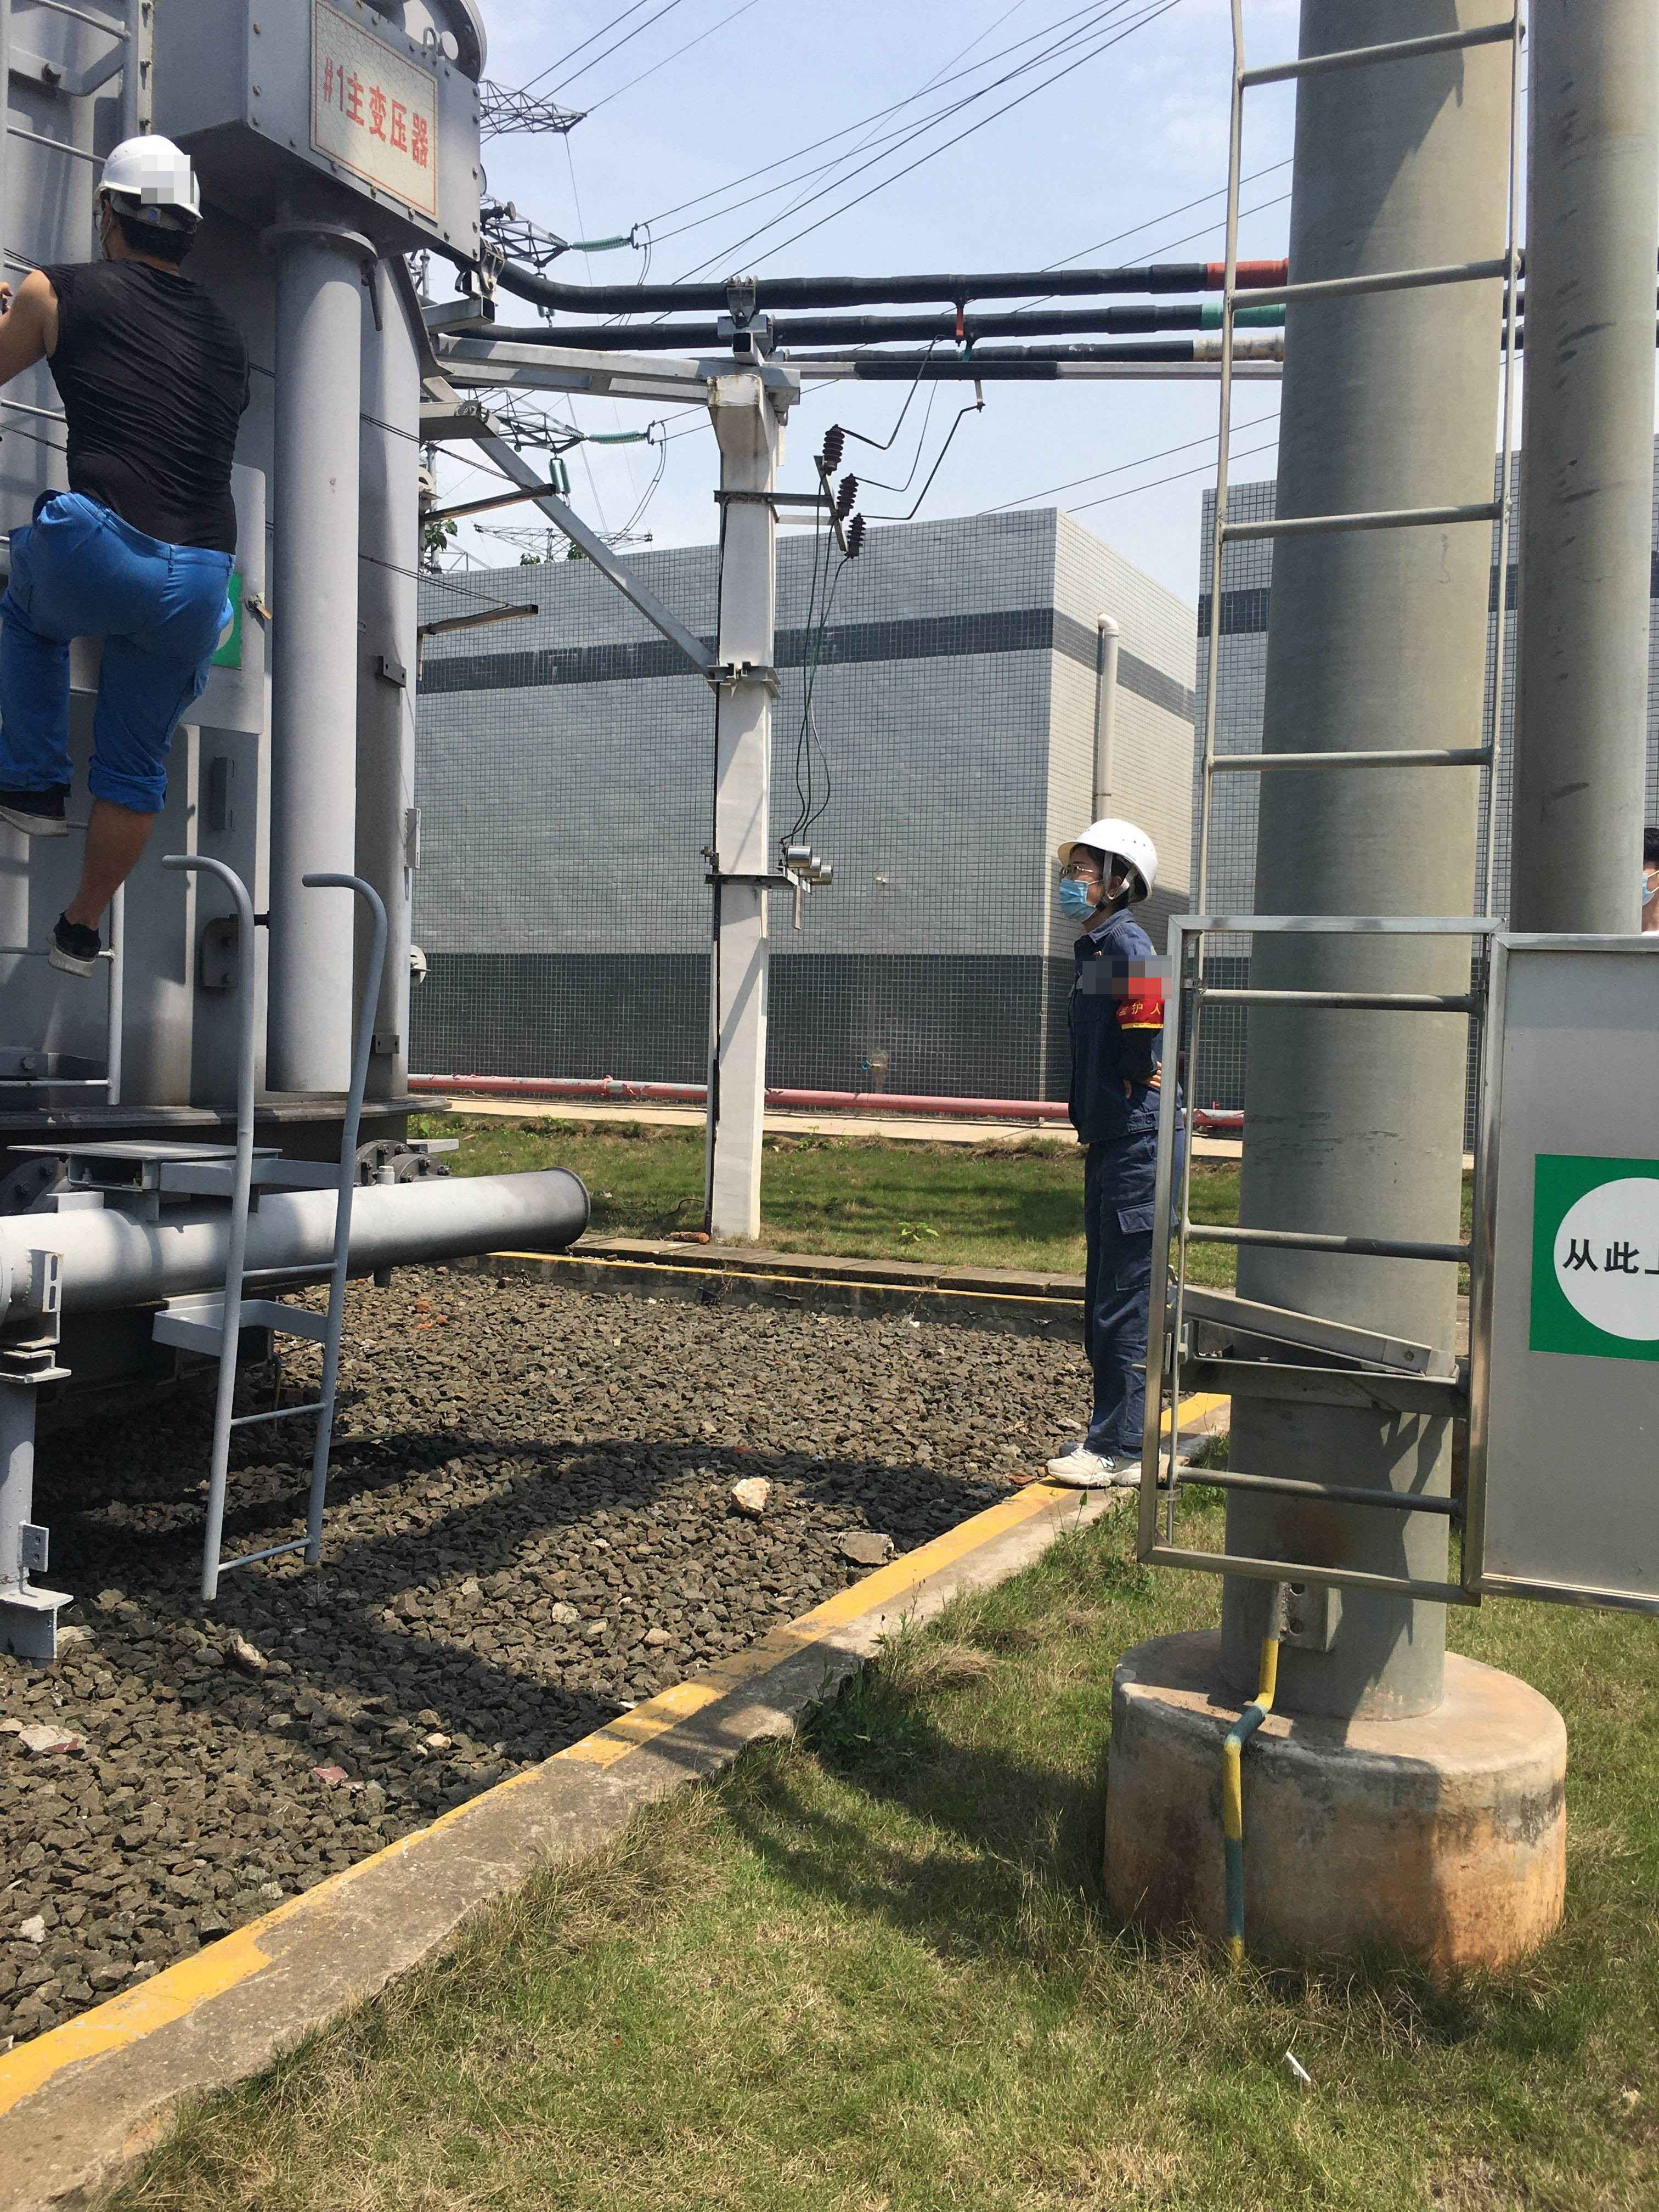downsuit: (2, 514, 232, 820), (1075, 1151, 1162, 1444)
upcloth: (44, 251, 254, 549)
upsuit: (1061, 918, 1171, 1129)
wrongbottom: (58, 773, 166, 946)
